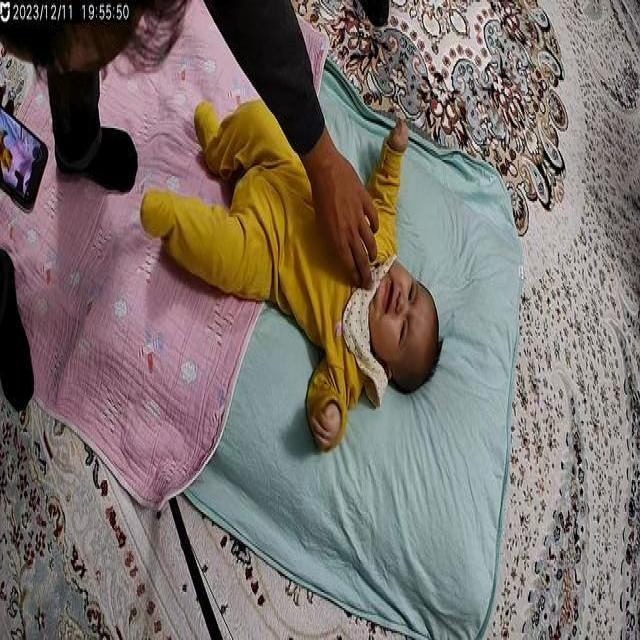baby: (139, 75, 452, 471)
